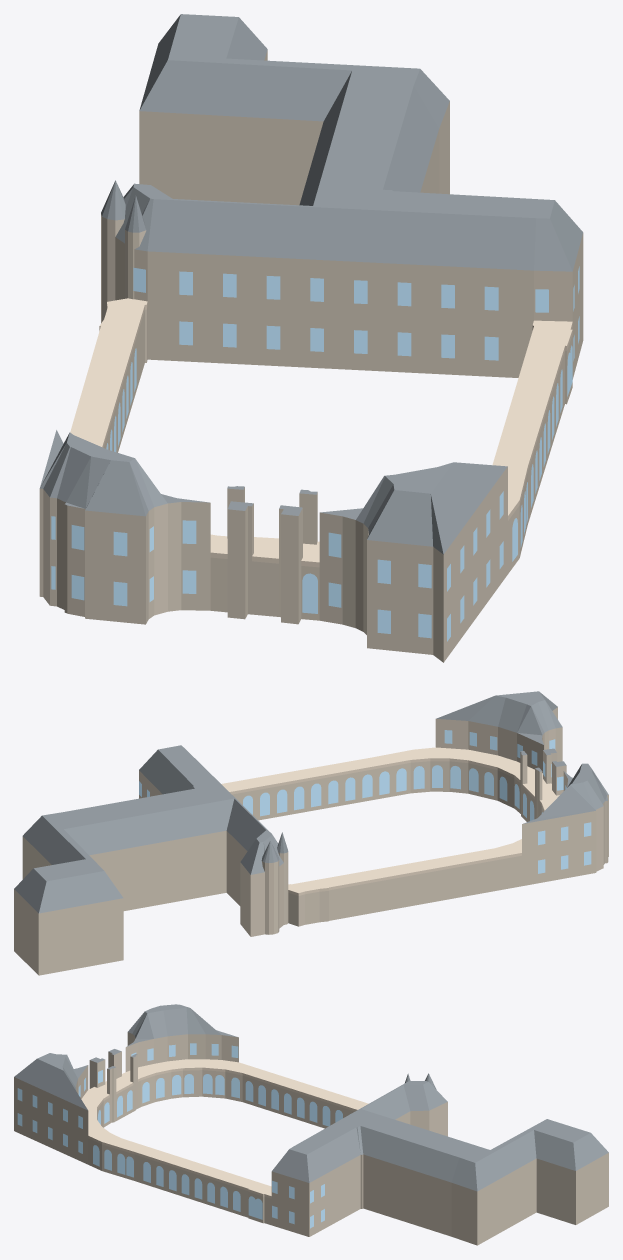
The picture shows the model from 3 angles, top to bottom: view 1: azimuth 30°, elevation 25°; view 2: azimuth 150°, elevation 25°; view 3: azimuth 270°, elevation 25°; orthographic projection. The views are drawn at different scales.
Visible parts, largest first — view 1: stone, roof, window, trim; view 2: stone, roof, trim, window; view 3: stone, roof, window, trim.
Boxes of the visible parts, x1,y1,x2,y2 form: stone: (39,50,583,662); roof: (39,14,583,554); window: (51,266,579,641); trim: (70,298,572,567); stone: (14,707,608,975); roof: (14,691,608,913); trim: (221,747,559,895); window: (139,730,591,873); stone: (14,1032,608,1245); roof: (14,1004,608,1191); window: (17,1043,350,1228); trim: (81,1059,368,1198).
Bounding box in the file's own units: 88.79 × 19 × 130.
